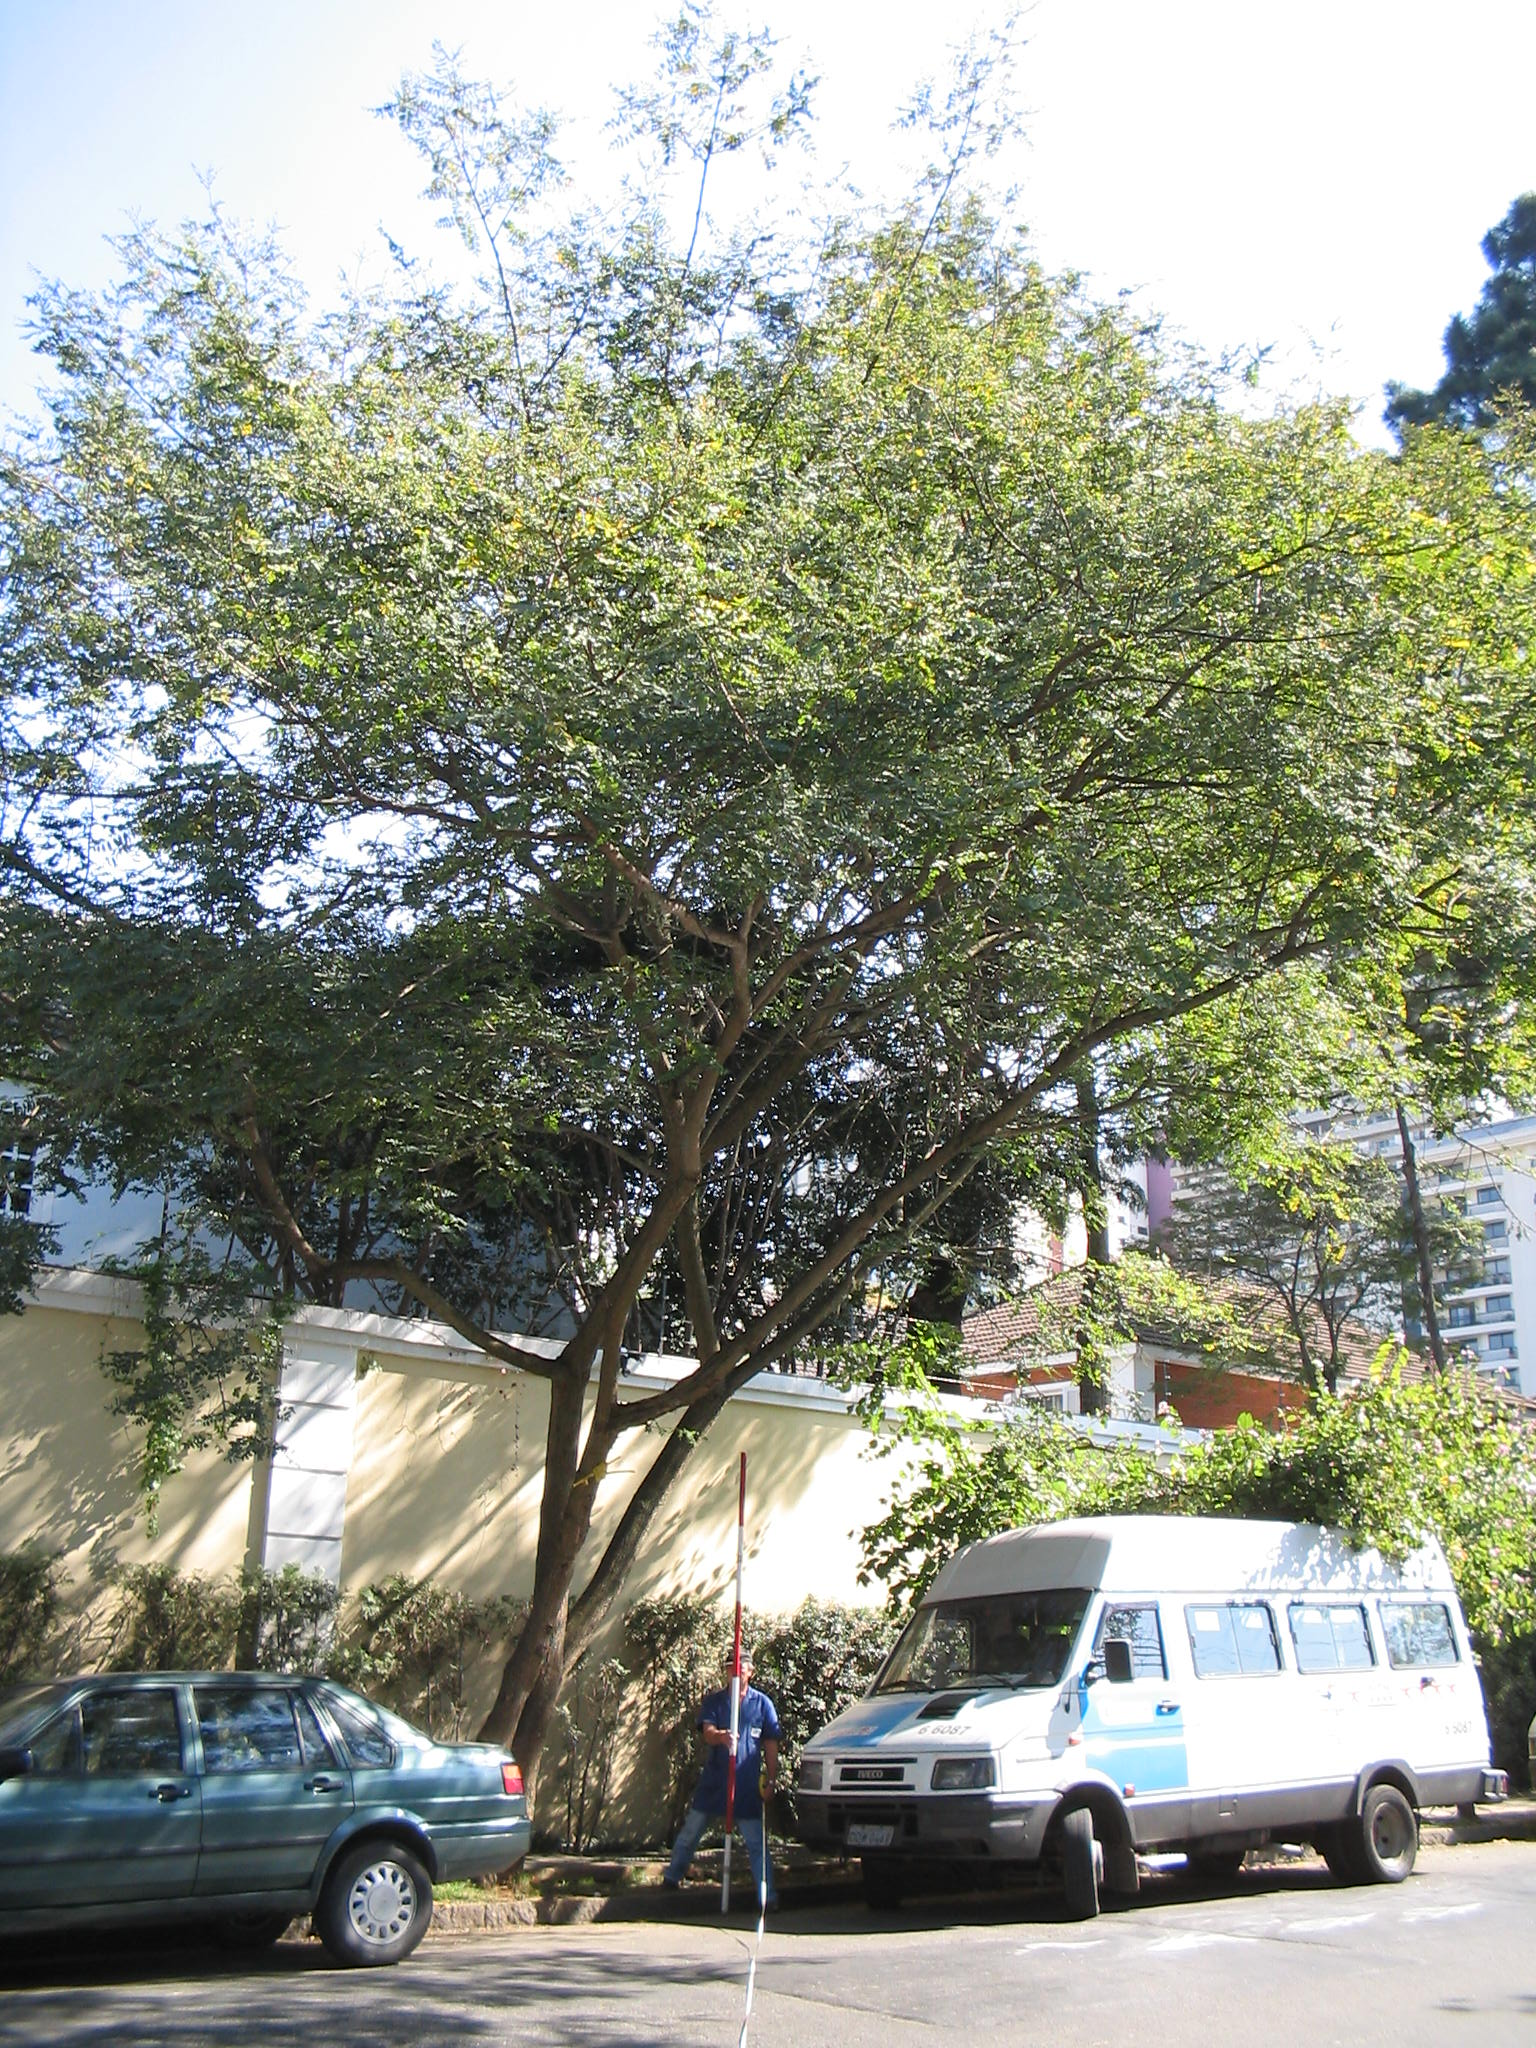crown: (18, 5, 1536, 1392)
stem: (452, 1637, 603, 1861)
stick: (712, 1453, 765, 1908)
tree: (6, 5, 1536, 1866)
